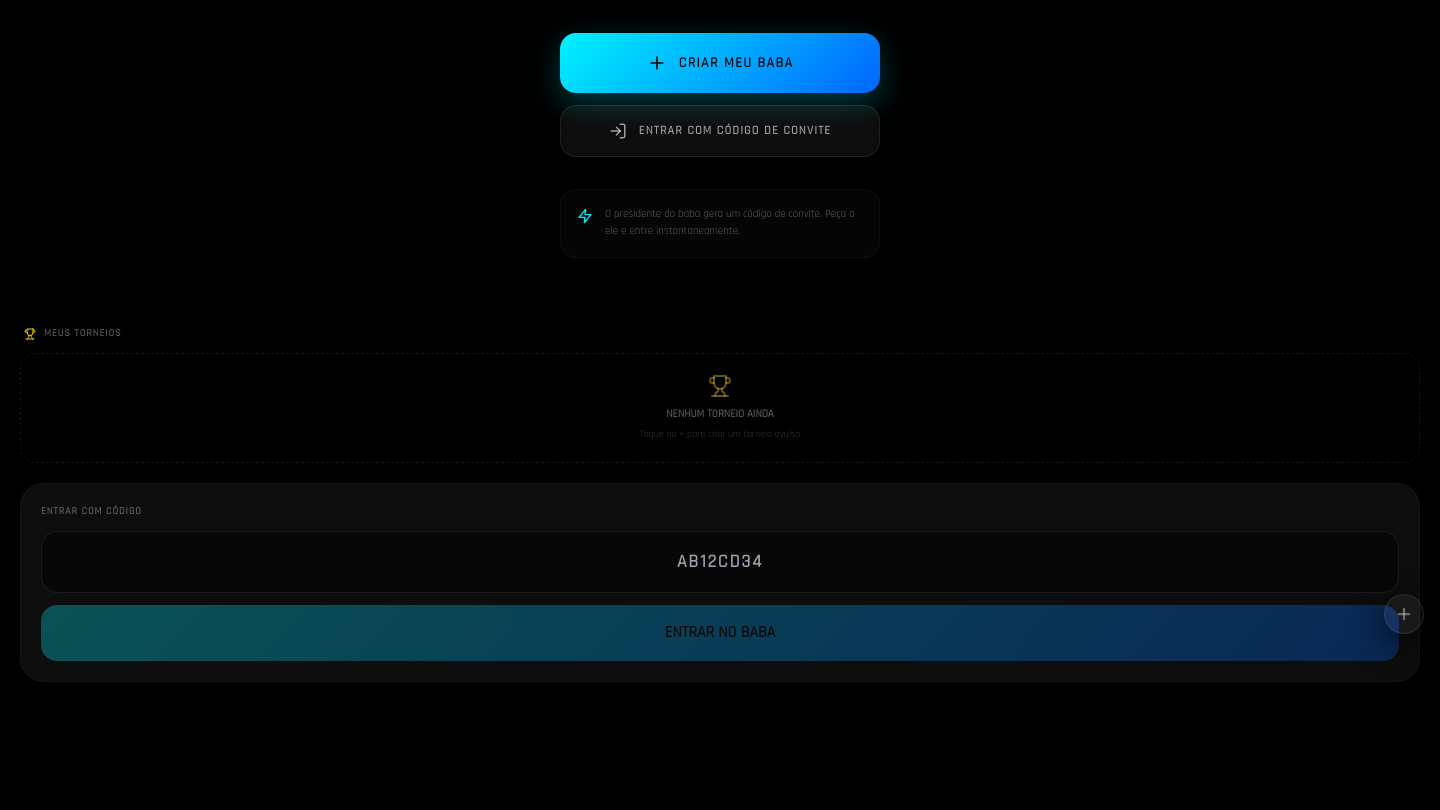
it: HomePage - join por código › input aceita somente letras maiúsculas e números
(page scrolled)
Type "ab@#12" into the field with placeholder "AB12CD34". click: [720, 562]
box: left=41, top=531, right=1399, bottom=593
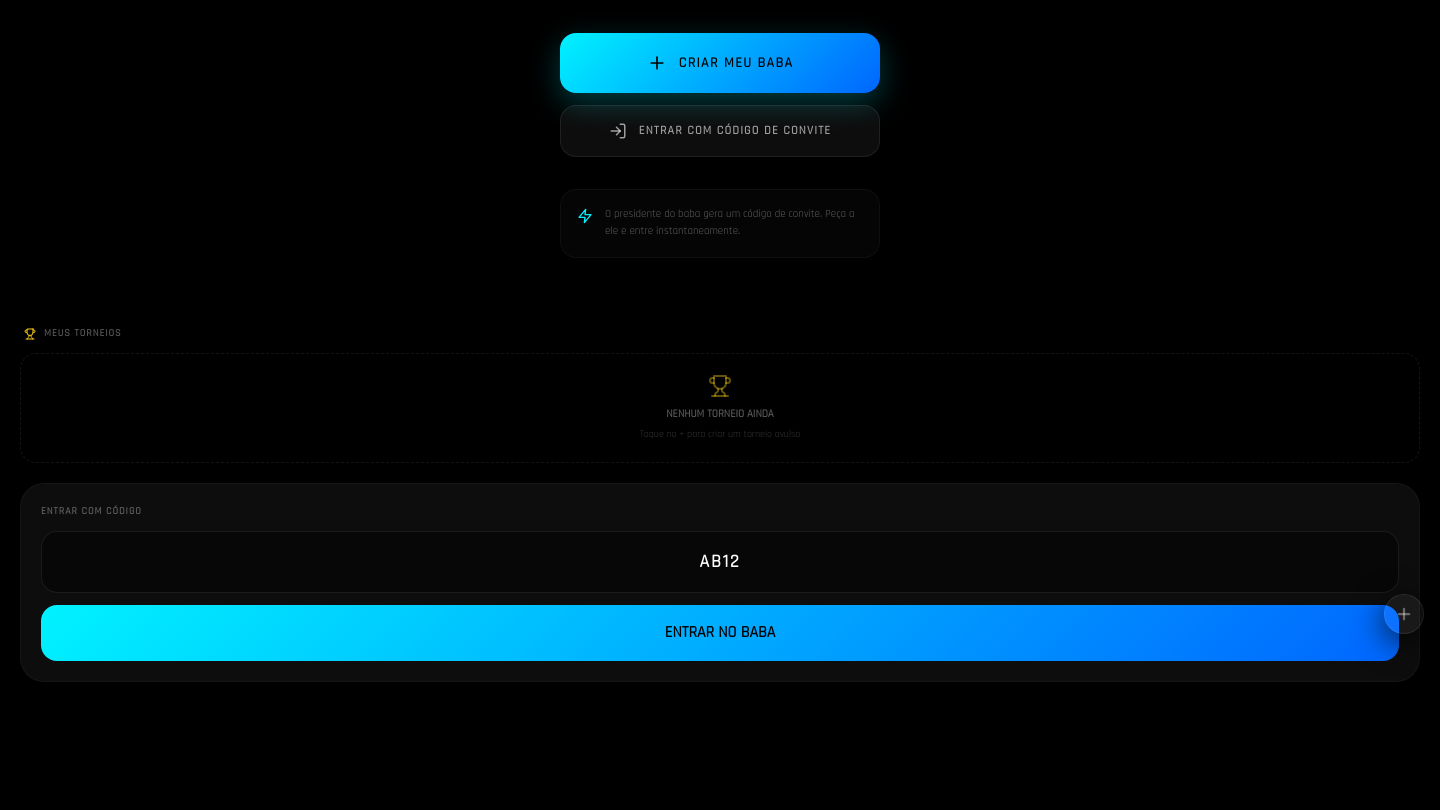
Now the field with placeholder "AB12CD34" holds "AB12", box left=41, top=531, right=1399, bottom=593
